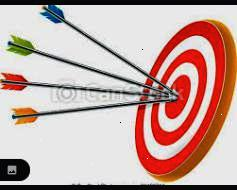target_red: (133, 18, 236, 181)
